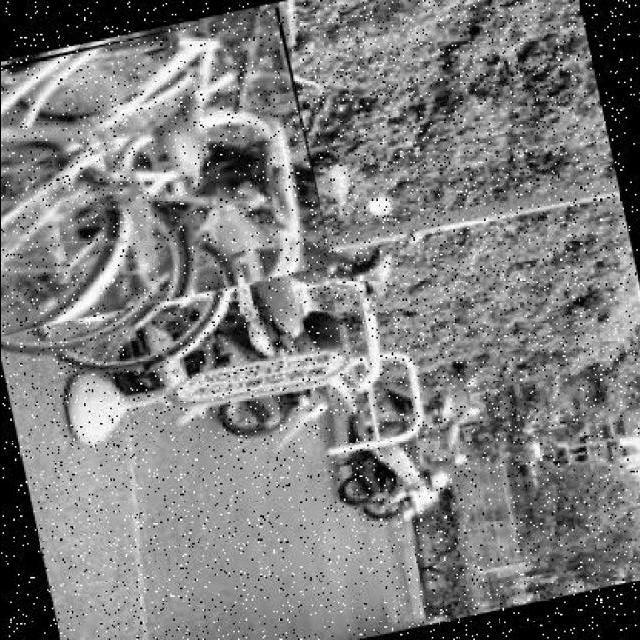bicycle: (3, 6, 335, 338)
